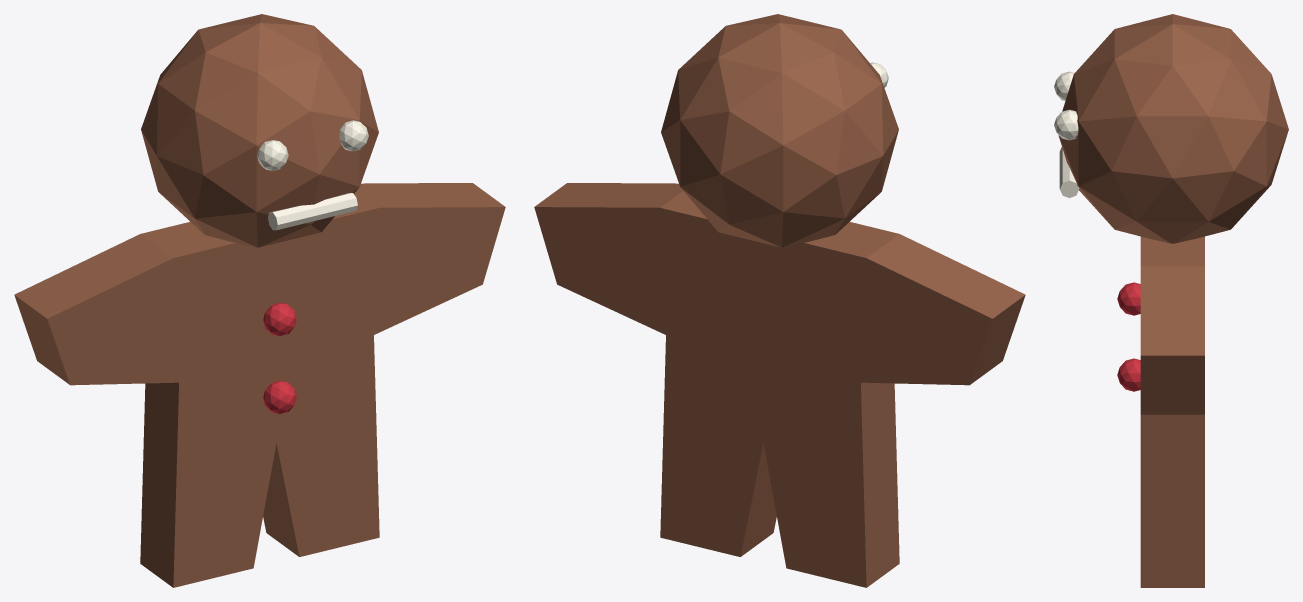
File: north-pole-village-gingerbread-cookie-065bedff__25431.glb
The picture shows the model from 3 angles, left to right: view 1: azimuth 30°, elevation 25°; view 2: azimuth 150°, elevation 25°; view 3: azimuth 270°, elevation 25°; orthographic projection. The views are drawn at different scales.
Visible parts, largest first — view 1: gingerbread-cookie; view 2: gingerbread-cookie; view 3: gingerbread-cookie.
Boxes of the visible parts, box(x1,y1,x2,y2) form: gingerbread-cookie: box(14, 14, 505, 587); gingerbread-cookie: box(534, 14, 1025, 587); gingerbread-cookie: box(1054, 14, 1288, 587).
Bounding box in the file's own units: 0.8 × 0.88 × 0.364.
